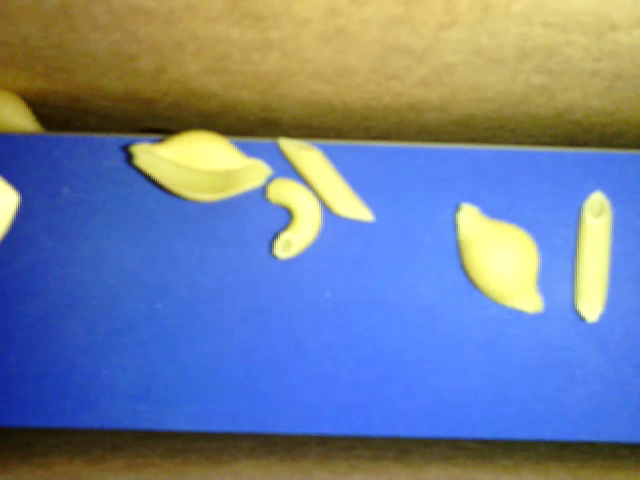elbow: (265, 176, 322, 259)
penne: (277, 136, 376, 222), (575, 188, 613, 325)
shell: (127, 128, 274, 202), (456, 201, 545, 315)
